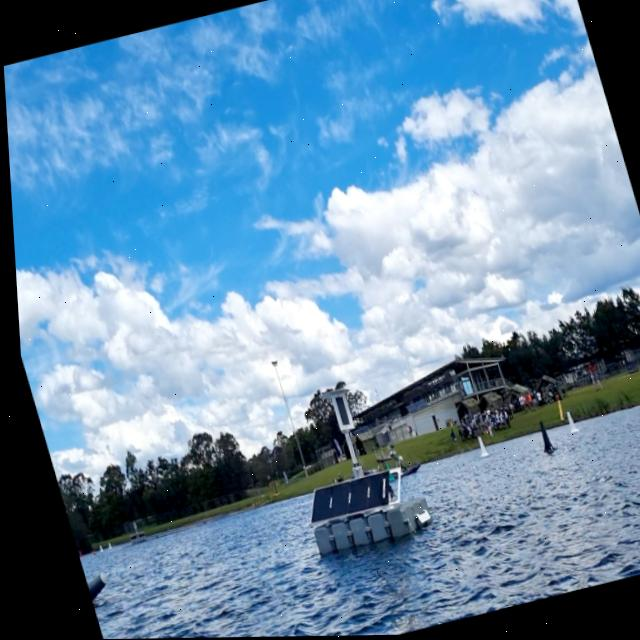led: (327, 394, 346, 429)
